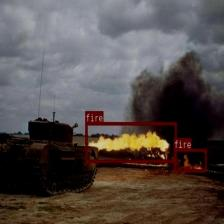fire: (85, 122, 176, 162), (174, 148, 206, 172)
